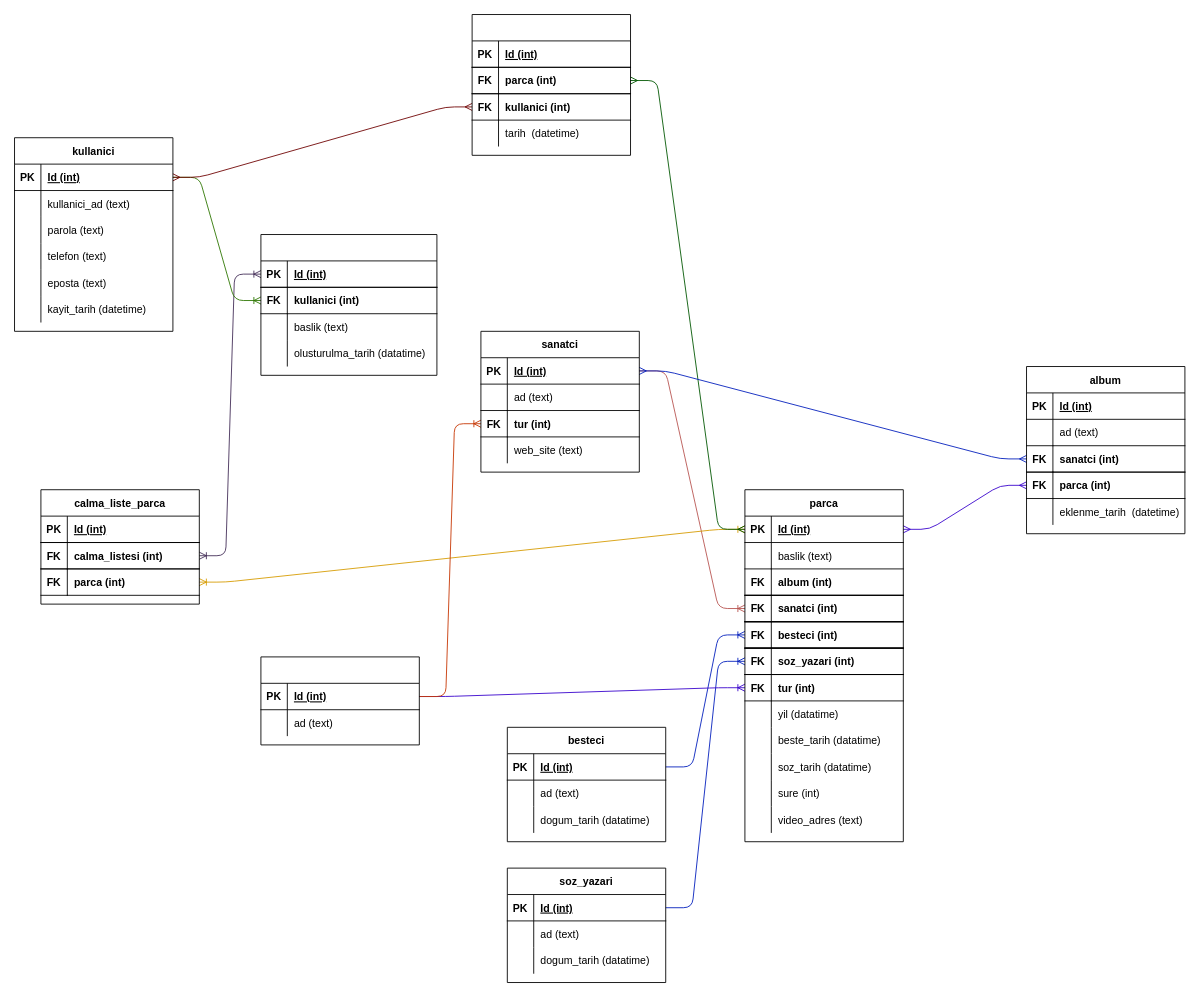
Some shapes in this 1199 by 997 pixel diagram are drawn without their labels. The box of each missing label's shape, as (x1, y1, x2, y2) in pixels:
calma_listesi: (260, 234, 437, 375)
dinleme: (471, 14, 631, 155)
tur: (260, 656, 419, 745)
